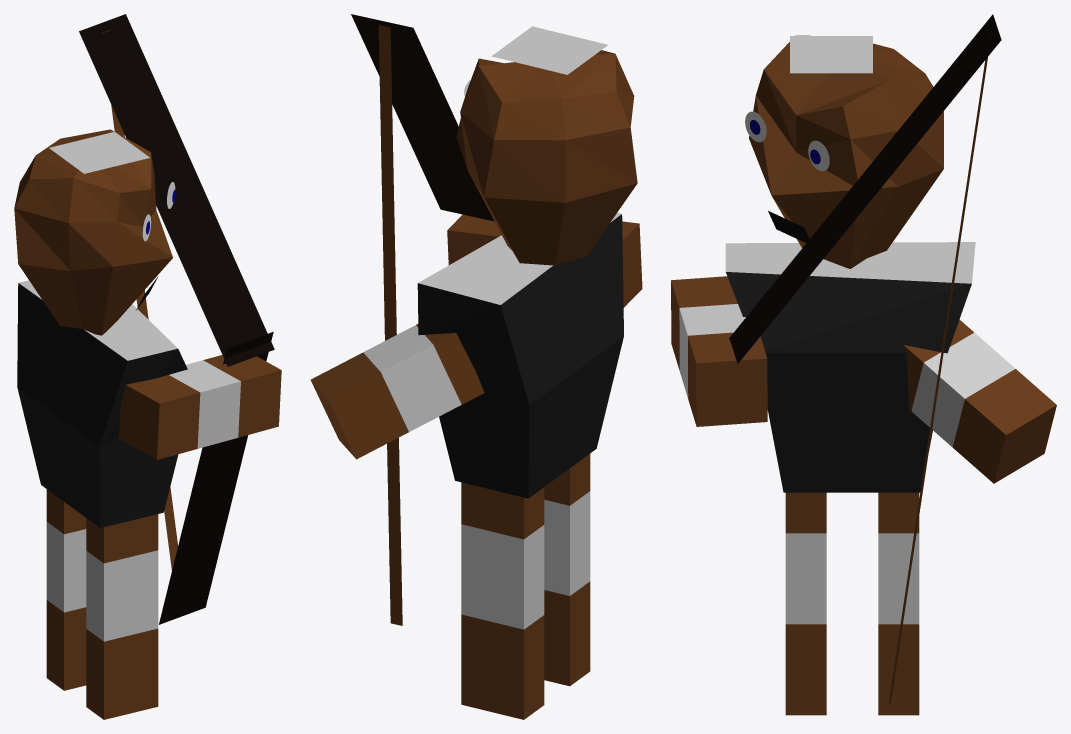
File: archer2f.obj
3 views of the same model, side by side, from view 1: azimuth 30°, elevation 25°; view 2: azimuth 150°, elevation 25°; view 3: azimuth 270°, elevation 25° (orthographic). The views are drawn at different scales.
Visible parts, largest first — view 1: Cube.001, Cube, Plane.002_Plane.003, Cube.004, Cube.003, Plane.001_Plane.002, Cube.005, Plane.004_Plane.001, Plane.003_Plane.004; view 2: Cube.001, Cube, Cube.005, Cube.002, Cube.004, Plane.002_Plane.003, Plane.003_Plane.004, Plane.004_Plane.001, Cube.003; view 3: Cube.001, Cube, Cube.002, Cube.003, Plane.002_Plane.003, Cube.004, Cube.005, Plane.004_Plane.001, Plane.003_Plane.004.
Part boxes in pixels (x1,y1,x2,y2): Cube.001: (17, 280, 187, 527); Cube: (14, 129, 172, 335); Plane.002_Plane.003: (79, 14, 274, 366); Cube.004: (86, 514, 158, 719); Cube.003: (119, 355, 281, 459); Plane.001_Plane.002: (159, 332, 273, 624); Cube.005: (46, 489, 86, 690); Plane.004_Plane.001: (49, 131, 149, 173); Plane.003_Plane.004: (102, 30, 177, 570); Cube.001: (417, 212, 623, 498); Cube: (456, 50, 637, 265); Cube.005: (461, 482, 544, 719); Cube.002: (311, 324, 484, 459); Cube.004: (544, 454, 590, 686); Plane.002_Plane.003: (351, 14, 494, 221); Plane.003_Plane.004: (378, 25, 402, 625); Plane.004_Plane.001: (491, 26, 607, 74); Cube.003: (447, 214, 642, 307); Cube.001: (725, 242, 975, 492); Cube: (749, 35, 943, 268); Cube.002: (903, 319, 1056, 483); Cube.003: (671, 276, 767, 426); Plane.002_Plane.003: (729, 14, 1001, 363); Cube.004: (785, 492, 826, 715); Cube.005: (878, 492, 919, 715); Plane.004_Plane.001: (790, 36, 872, 73); Plane.003_Plane.004: (889, 33, 990, 705).
Bounding box in the file's own units: 2.42 × 6.6 × 3.26.
